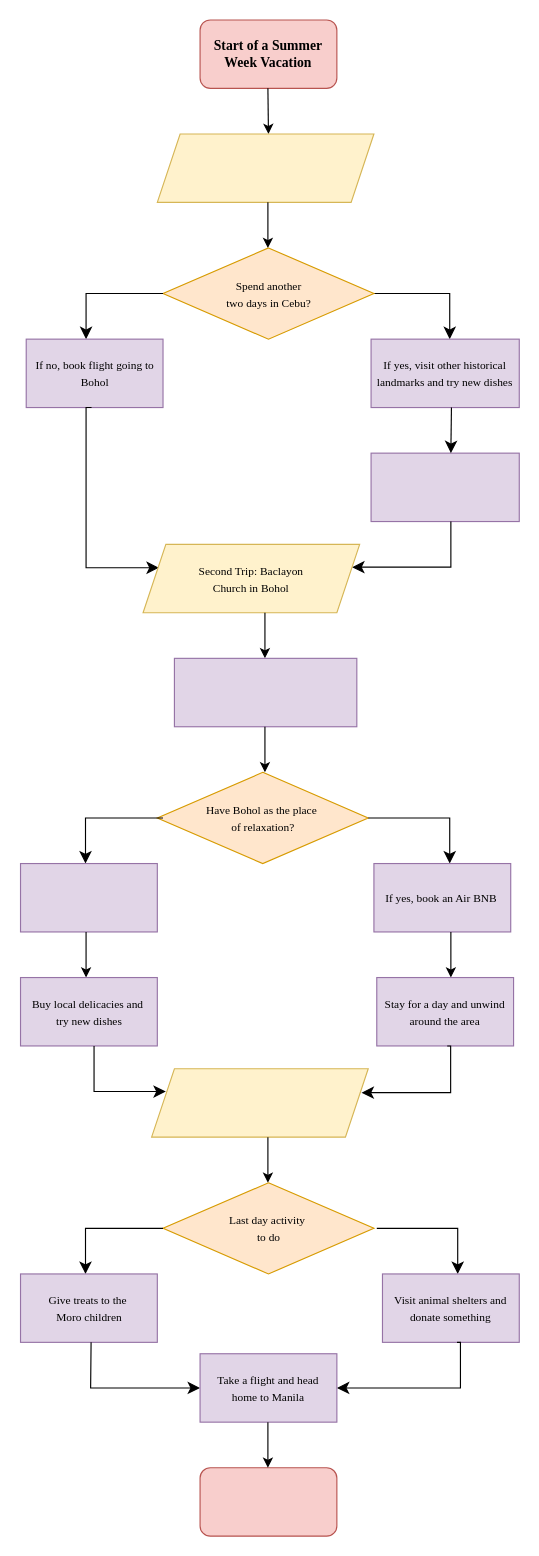
This 539x1556 diagram has some shape labels left out. The shapes that lost their labels are listed below. From the top down, each one's centre as x and y in pixels, then its label:
At pixel 265 167: "First Trip: Magellan's Cross in Cebu".
At pixel 444 487: "Fort San Pedro & Mactan Shrine Tuslob Buwa & Pungko Pungko".
At pixel 265 692: "Visit more historical landmarks and tourist spots".
At pixel 88 897: "If no, do food related adventures".
At pixel 259 1102: "Last Trip: Kadayawan Village in Davao".
At pixel 268 1501: "End of a Summer Week Vacation".
